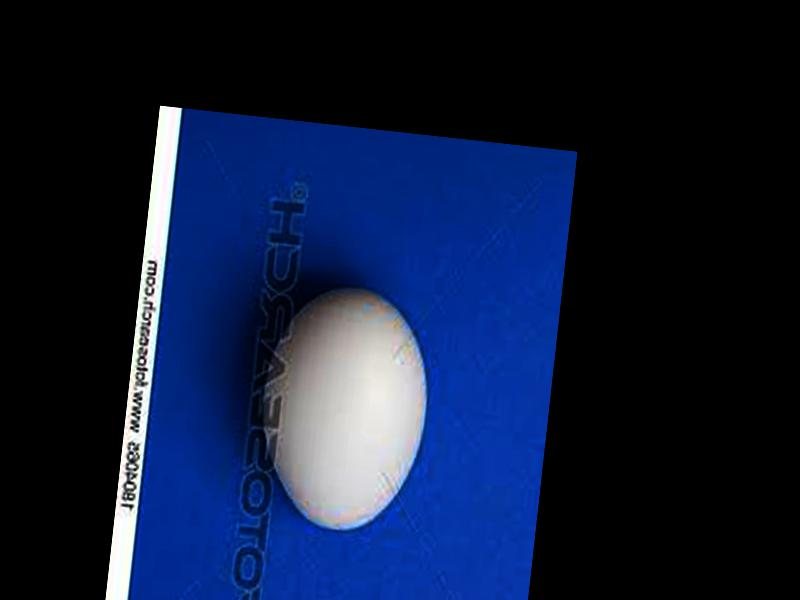Eggs: (245, 278, 438, 537)
